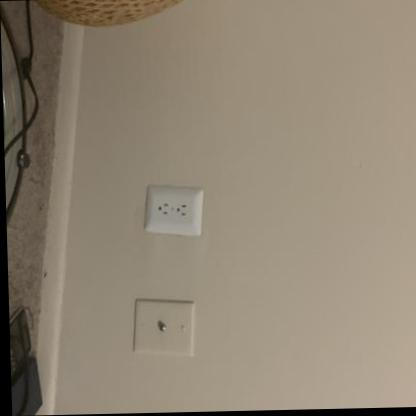OUTLET: (145, 184, 205, 233)
